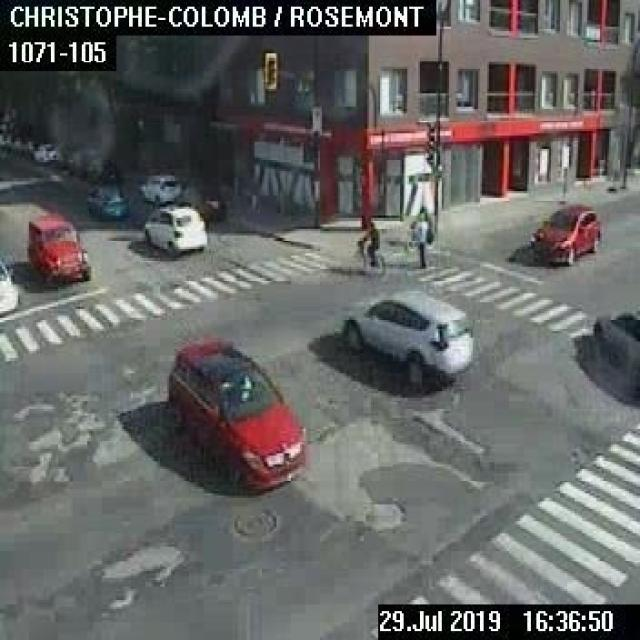cyclist: (349, 215, 387, 277)
pedestrian: (411, 211, 433, 269)
vehicle: (165, 341, 305, 489), (342, 290, 472, 387), (26, 212, 89, 284), (531, 204, 600, 262), (591, 311, 638, 385), (141, 203, 205, 255), (175, 186, 224, 217), (85, 184, 128, 219), (137, 172, 181, 204), (0, 258, 20, 313), (85, 159, 122, 185), (32, 143, 56, 162)
